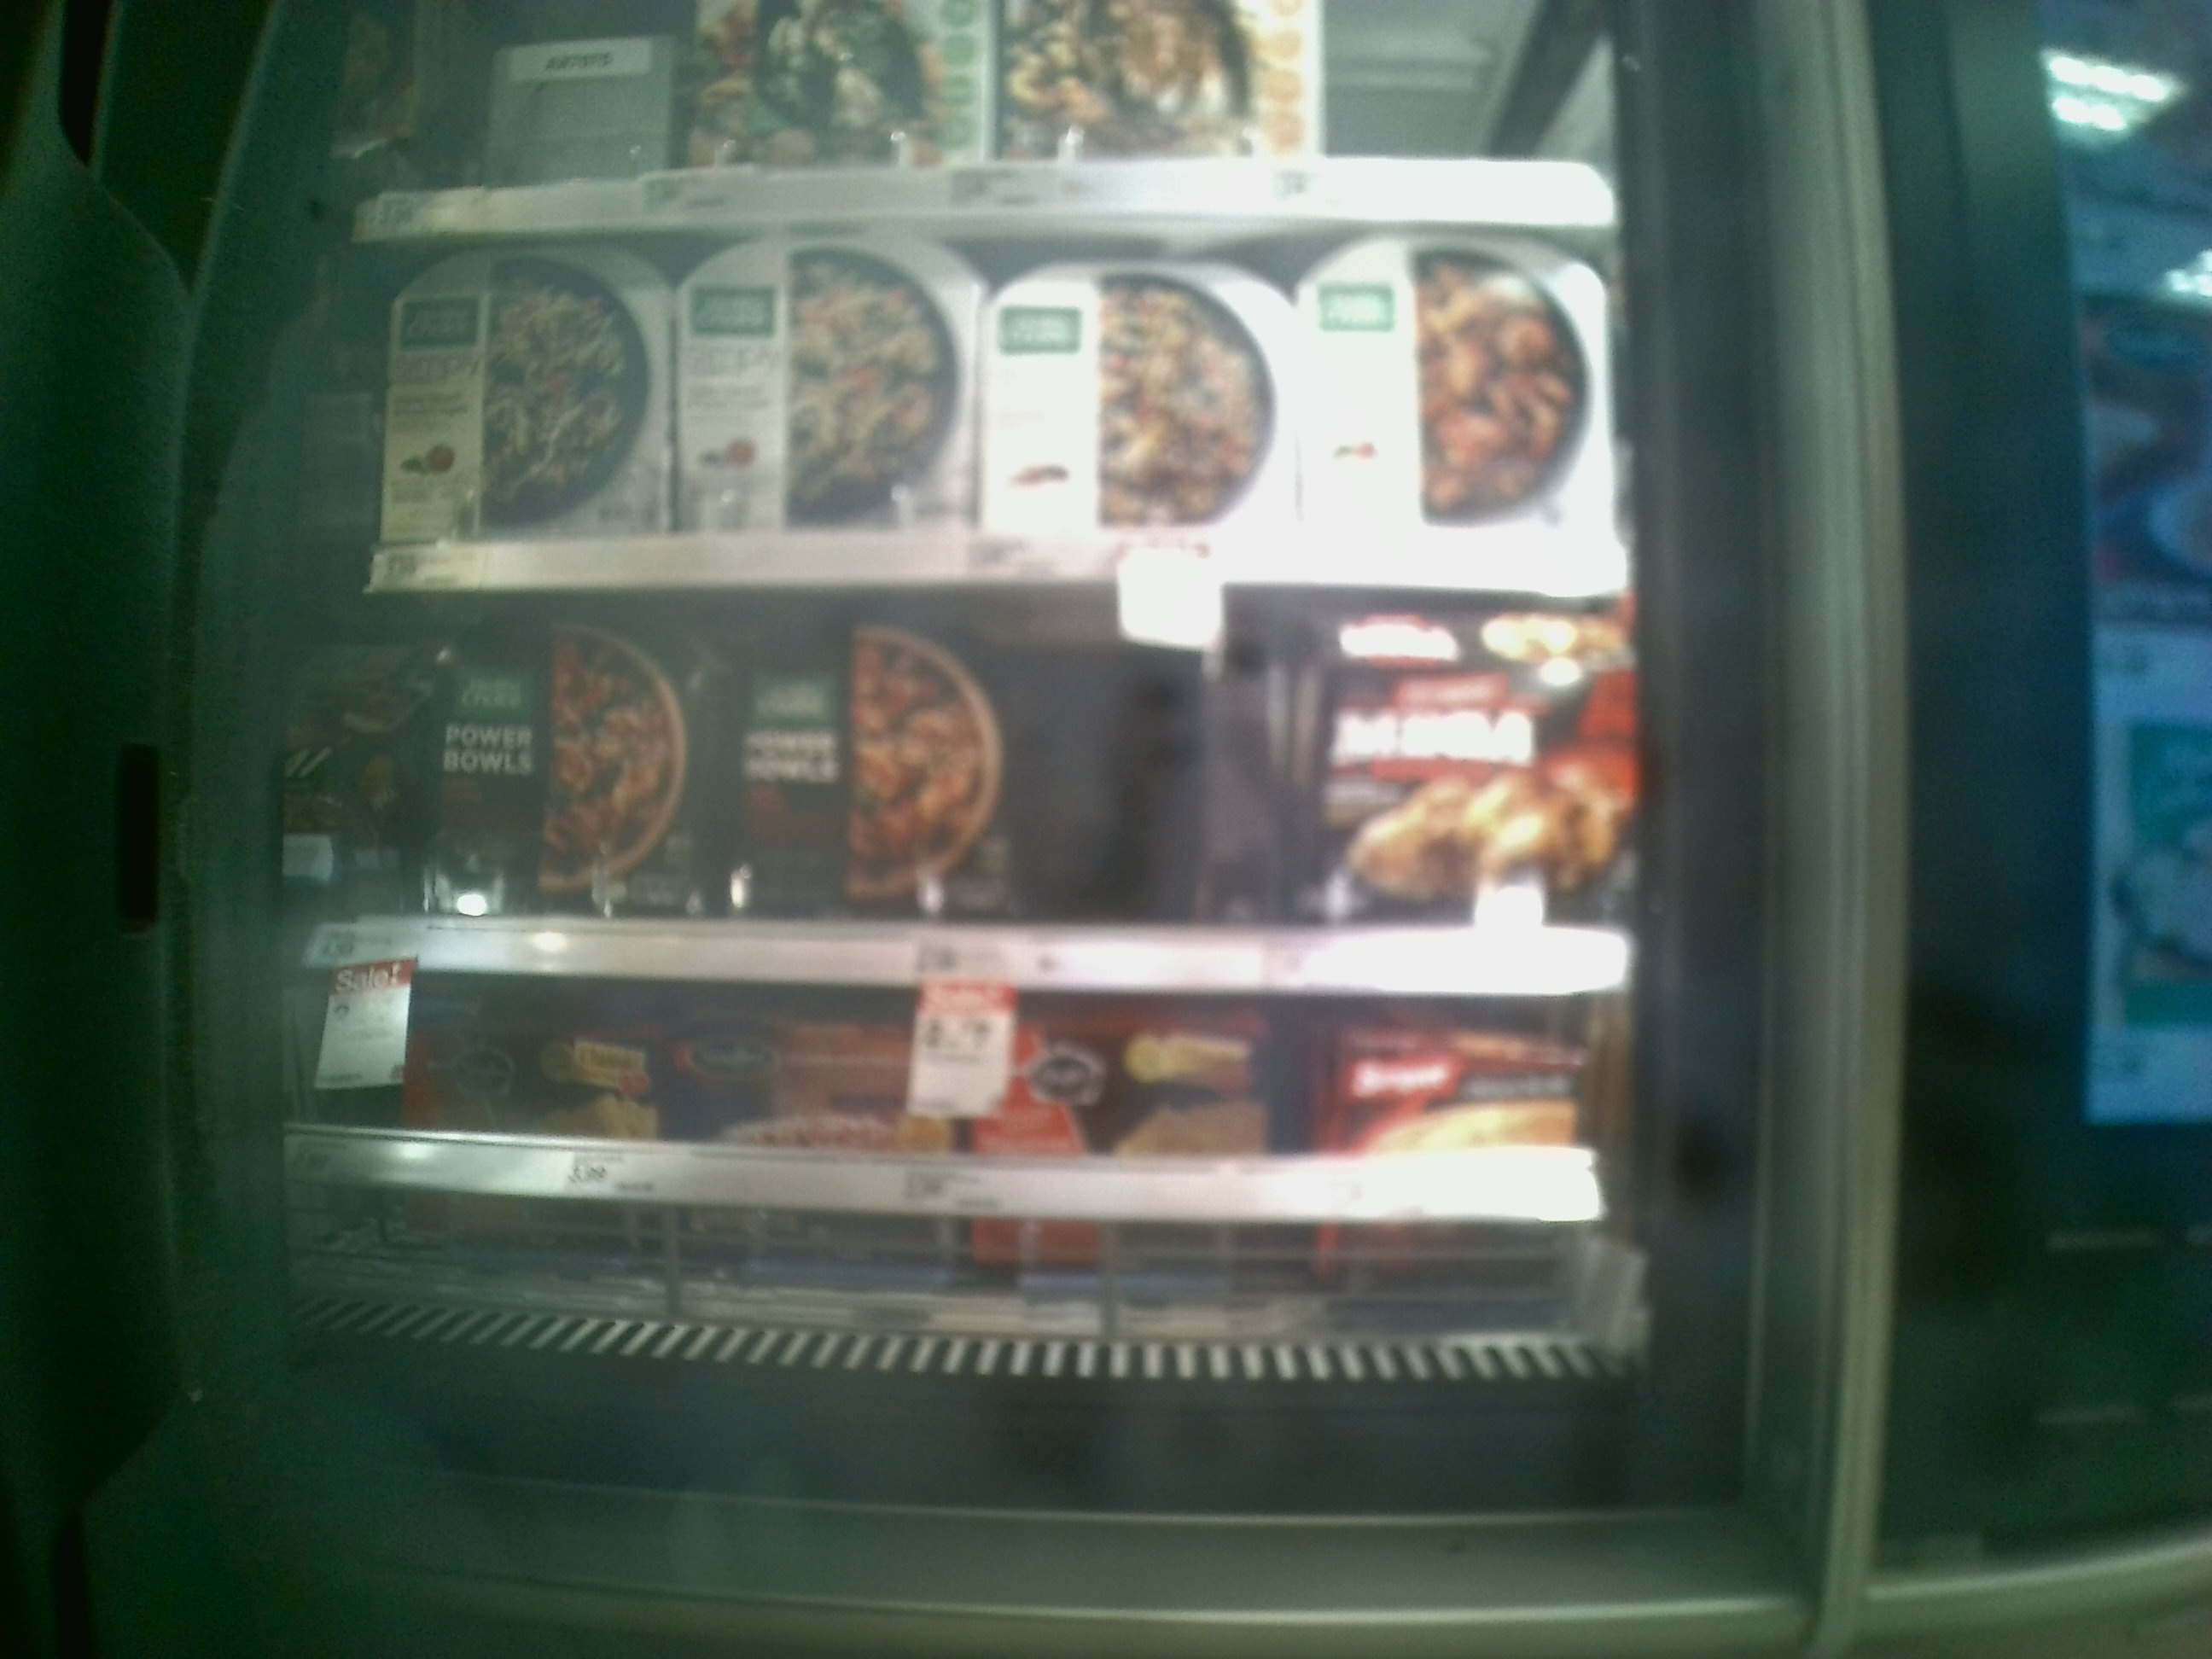pizza: (711, 603, 1019, 932), (1322, 592, 1632, 908), (1296, 234, 1616, 538), (402, 620, 688, 918), (681, 235, 977, 521), (387, 246, 667, 530), (988, 260, 1285, 526), (981, 5, 1320, 153), (688, 5, 974, 155)
